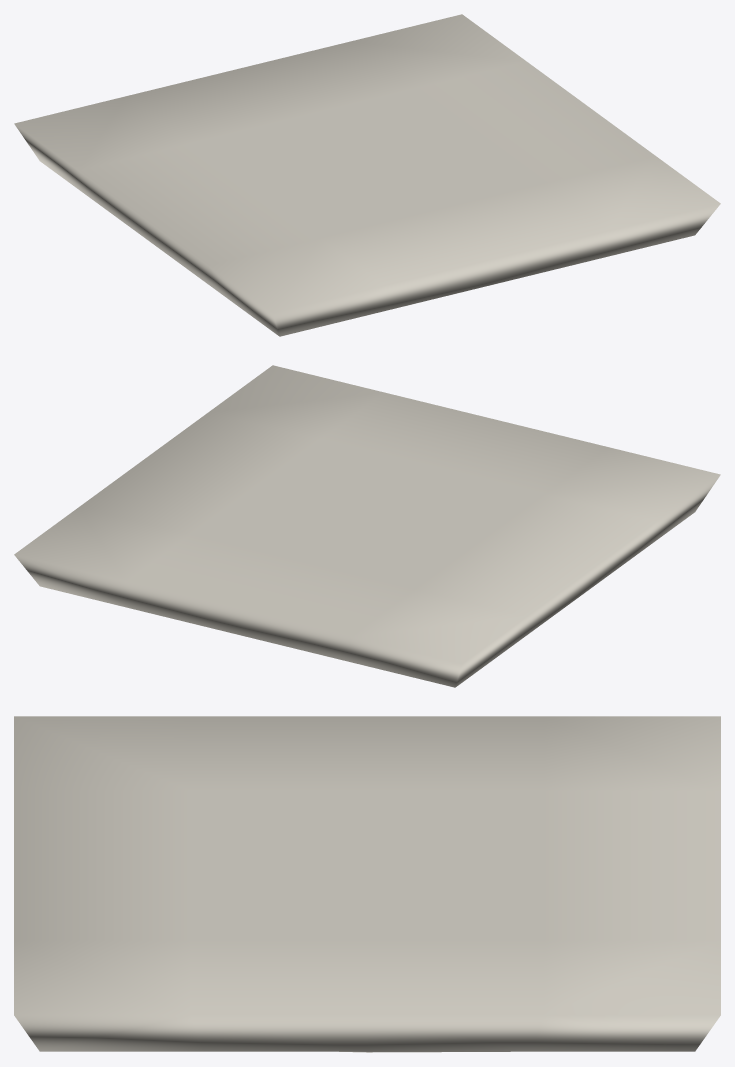
File: Airconditioner.fbx
3 views of the same model, one above another, from view 1: azimuth 30°, elevation 25°; view 2: azimuth 150°, elevation 25°; view 3: azimuth 270°, elevation 25° (orthographic). The views are drawn at different scales.
Parts seen in each view (by area): view 1: Airconditioner; view 2: Airconditioner; view 3: Airconditioner.
Part boxes in pixels (x1,y1,x2,y2): Airconditioner: [14, 14, 720, 336]; Airconditioner: [14, 365, 720, 687]; Airconditioner: [14, 716, 720, 1052].
Bounding box in the file's own units: 1.18 × 0.1137 × 1.18.
